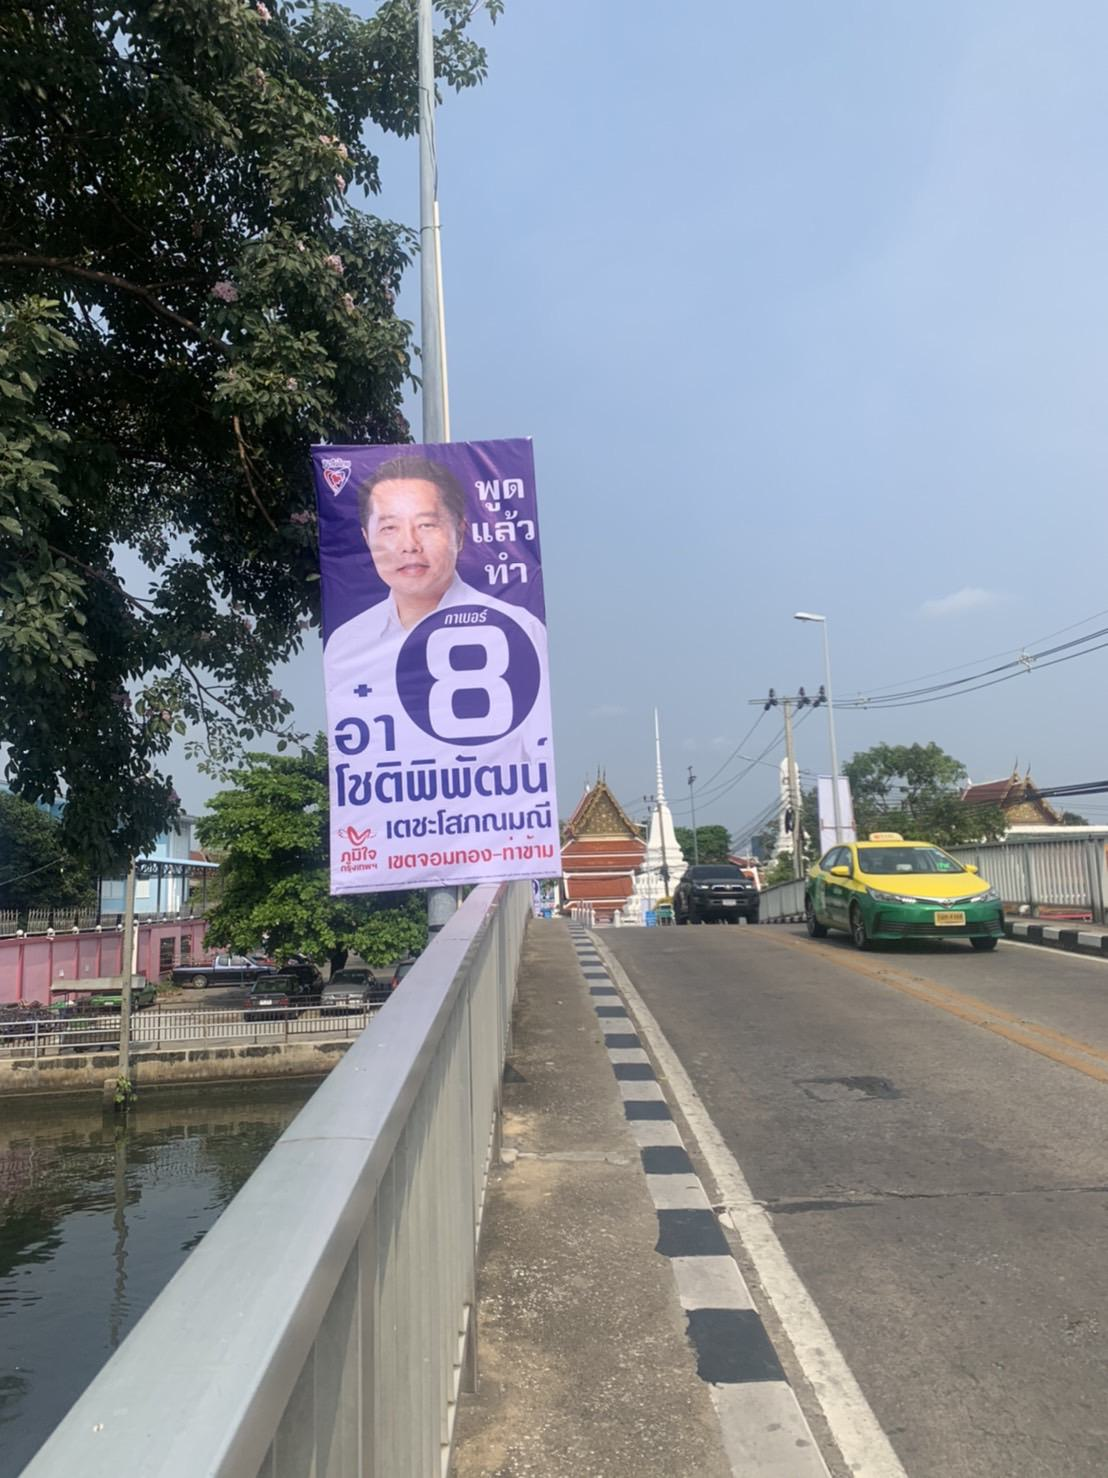Banner: (313, 442, 566, 886)
